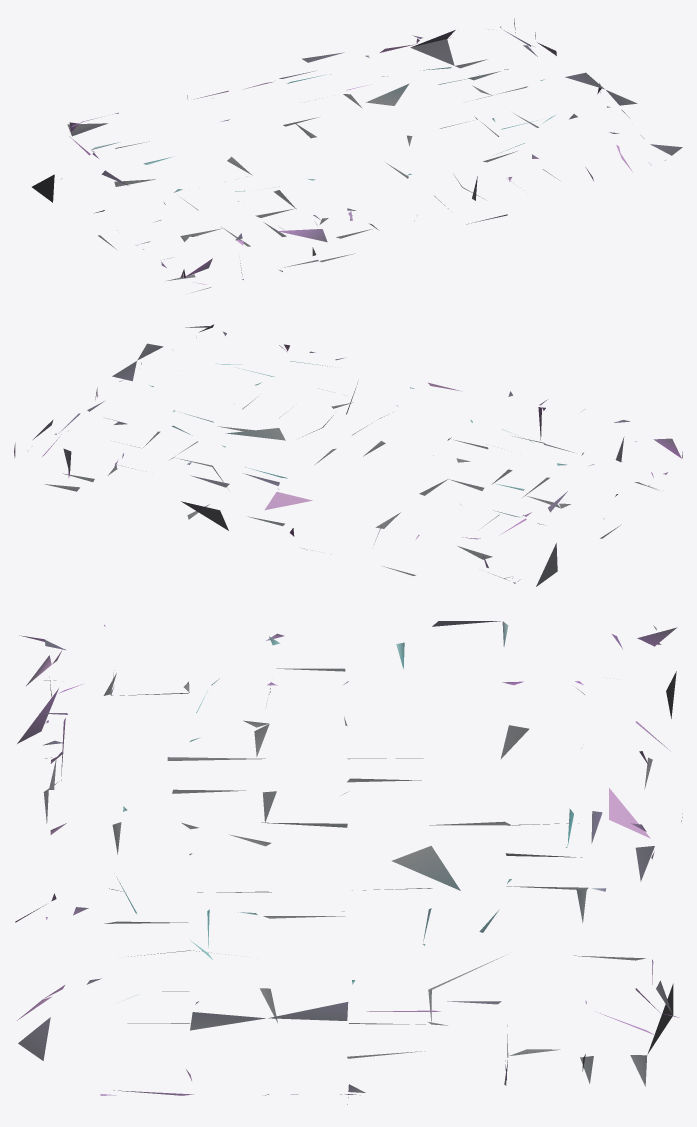
File: fatedrop-female.glb
3 renders of one model, top to bottom at view 1: azimuth 30°, elevation 25°; view 2: azimuth 150°, elevation 25°; view 3: azimuth 270°, elevation 25°, orthographic. The views are drawn at different scales.
Parts seen in each view (by area): view 1: fatedrop-female; view 2: fatedrop-female; view 3: fatedrop-female.
Part boxes in pixels (<box>): fatedrop-female: <box>32,18,682,292</box>; fatedrop-female: <box>14,324,682,586</box>; fatedrop-female: <box>15,621,682,1104</box>.
Size of the model in its own units: 2 by 0.171 by 1.27.
